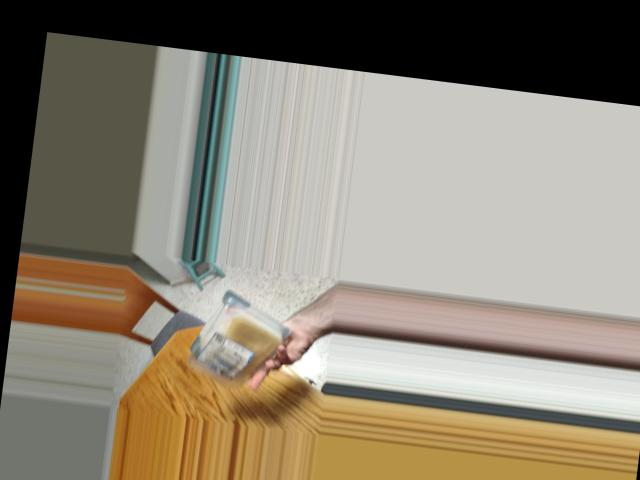cheese: (179, 292, 291, 383)
